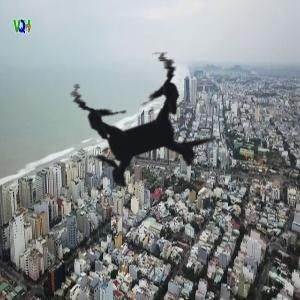drone: (21, 10, 260, 249)
